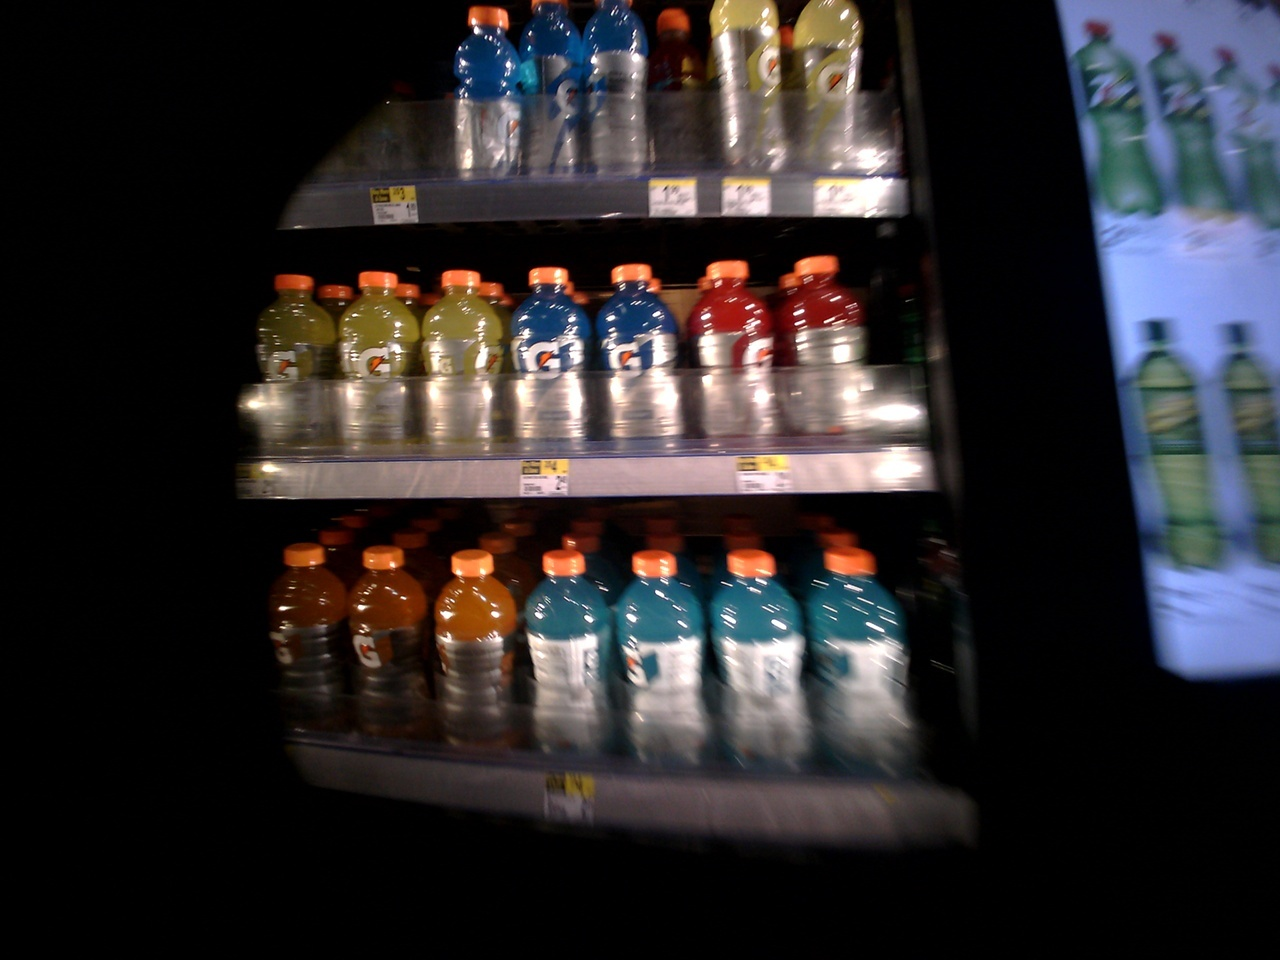shelf: (240, 485, 973, 838), (221, 237, 913, 503), (220, 0, 895, 204)
